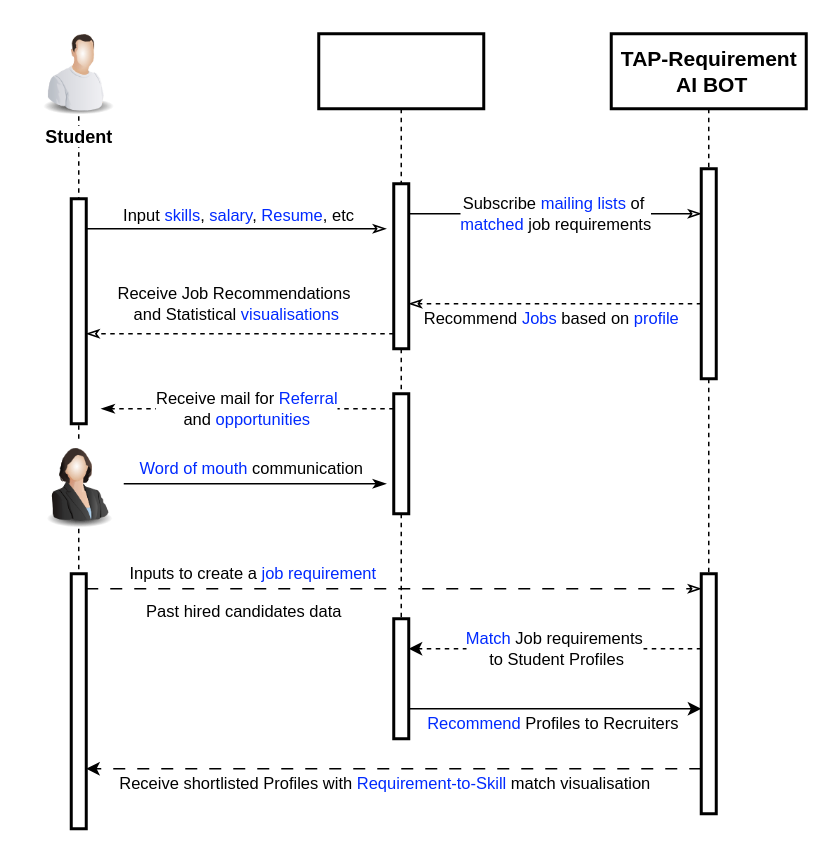
The diagram is 833 pixels wide and 855 high, and some of its shapes have lost their labels. Here are the shapes that lost their labels. From the top down, the centre of each, then its label:
At point 400,71: "TAP-Profile AI BOT".
At point 78,483: "Recruiter".
